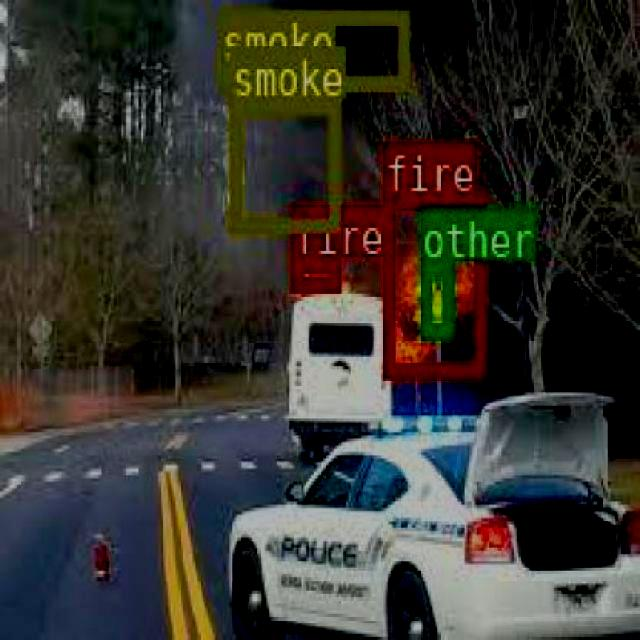fire: (382, 191, 484, 374), (290, 253, 338, 290)
smoke: (218, 9, 407, 88), (228, 96, 337, 229)
